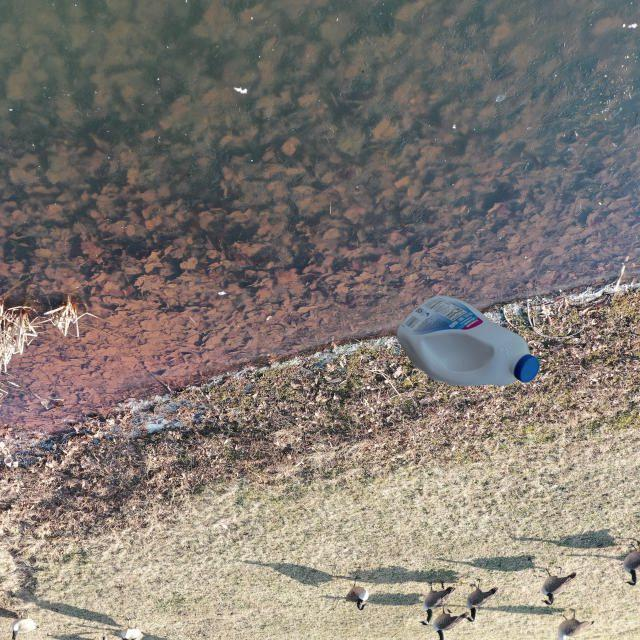Plastic: (393, 289, 545, 390)
